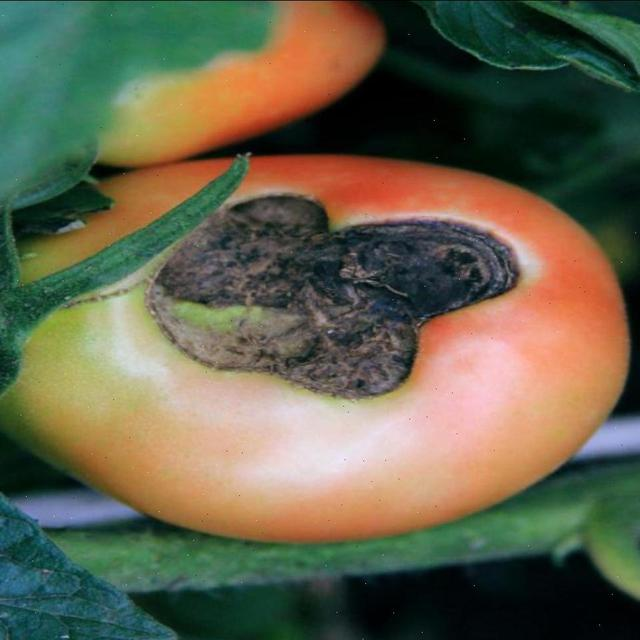Blossom End Rot Fruit: (95, 126, 348, 265)
